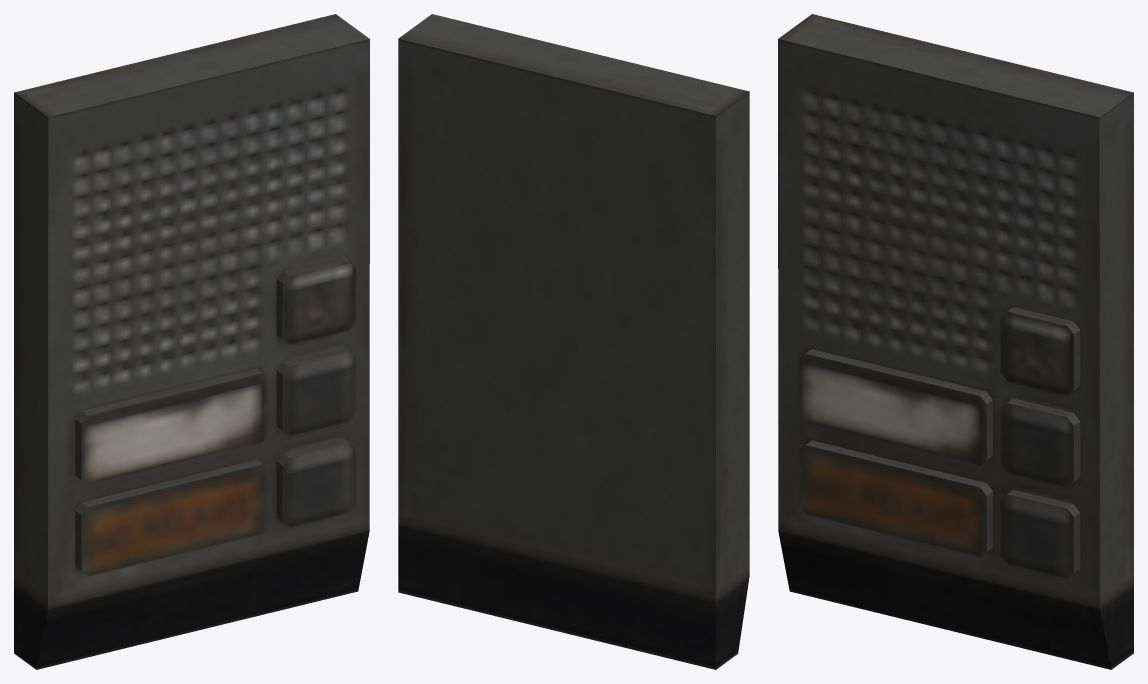
The model's file is button_11.dae.
3 renders of one model, left to right at view 1: azimuth 30°, elevation 25°; view 2: azimuth 150°, elevation 25°; view 3: azimuth 330°, elevation 25°, orthographic.
Parts seen in each view (by area): view 1: button_11; view 2: button_11; view 3: button_11.
Part boxes in pixels (x1=…): button_11: x1=14, y1=14, x2=369, y2=669; button_11: x1=398, y1=14, x2=749, y2=669; button_11: x1=778, y1=14, x2=1133, y2=669.
Size of the model in its own units: 0.12 by 0.026 by 0.2.
Materials: 1 (1 with a texture image).
